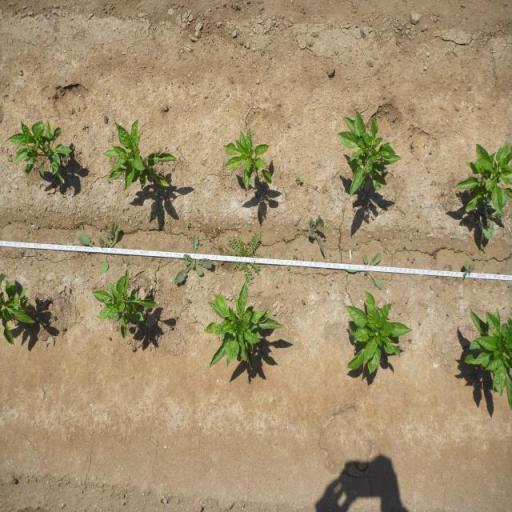plant: (203, 282, 285, 372), (342, 290, 414, 376), (336, 107, 402, 198), (101, 118, 179, 192), (460, 302, 512, 406), (91, 267, 159, 340), (453, 140, 512, 215), (8, 117, 73, 185), (220, 126, 274, 192), (0, 270, 36, 347)
weed: (223, 232, 264, 287), (78, 220, 120, 273), (172, 233, 214, 286), (345, 250, 383, 290), (476, 190, 506, 240), (306, 216, 324, 254), (463, 260, 475, 276), (294, 175, 304, 184), (185, 219, 192, 229), (309, 256, 317, 262), (292, 254, 298, 261), (18, 250, 24, 257), (62, 156, 68, 162), (186, 298, 192, 304), (480, 246, 487, 251), (286, 265, 291, 271), (407, 337, 412, 343), (170, 324, 174, 331), (174, 313, 178, 320), (410, 141, 414, 148), (50, 314, 54, 320), (220, 260, 224, 266), (323, 237, 327, 243), (411, 256, 415, 262), (294, 247, 298, 252), (217, 248, 220, 254), (62, 326, 66, 330), (218, 246, 222, 250), (430, 148, 432, 154), (404, 244, 406, 248), (442, 191, 444, 195), (249, 228, 251, 231)
